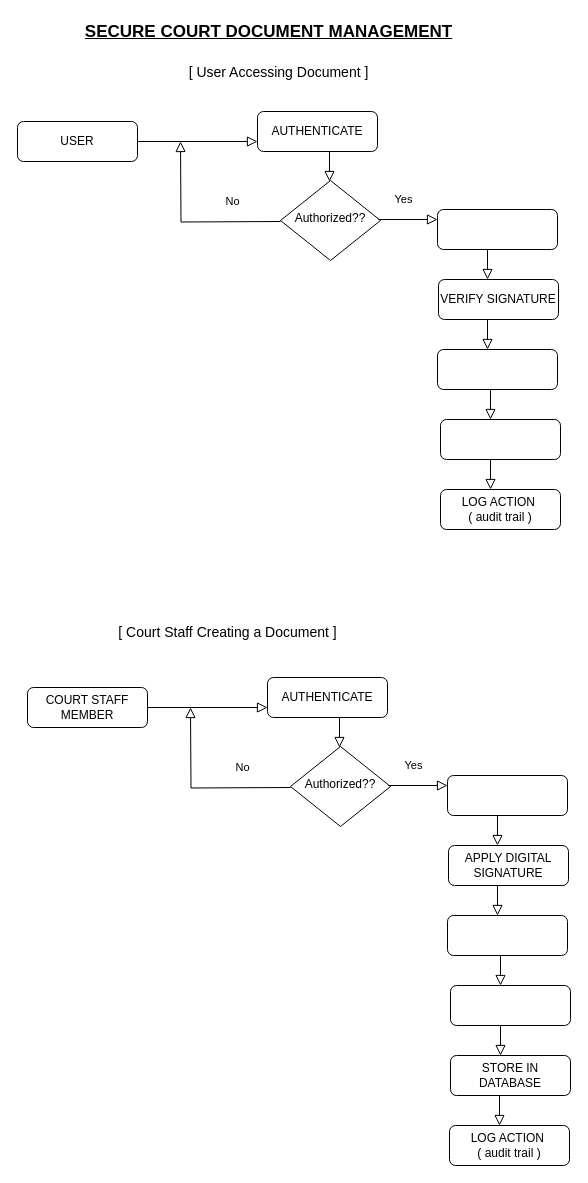
The diagram is 588 pixels wide and 1183 high, and some of its shapes have lost their labels. The shapes that lost their labels are listed below. From the top down, each one's centre as x and y in pixels, then its label:
At [497,229]: "ACCESS DOCUMENT".
At [497,369]: "COMPARE HASH".
At [500,439]: "DECRYPT".
At [507,795]: "UPLOAD DOCUMENT".
At [507,935]: "GENERATE HASH".
At [510,1005]: "ENCRYPT DOCUMENT".
